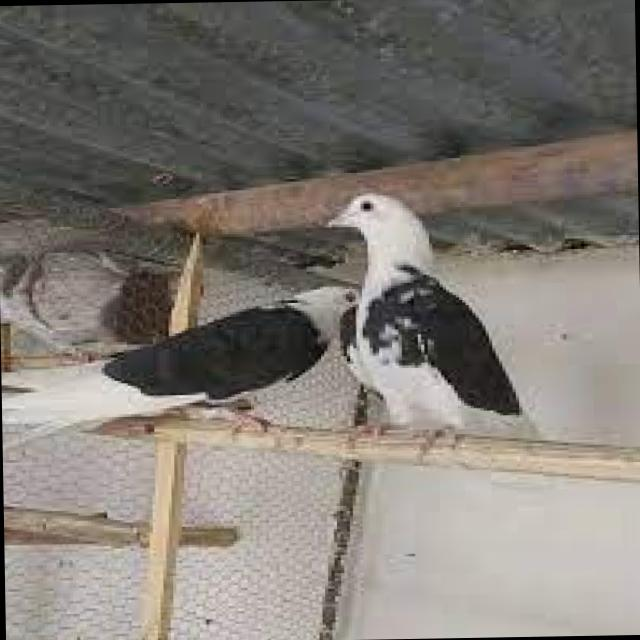bird: (322, 186, 554, 458), (2, 282, 364, 448), (0, 237, 175, 354)
